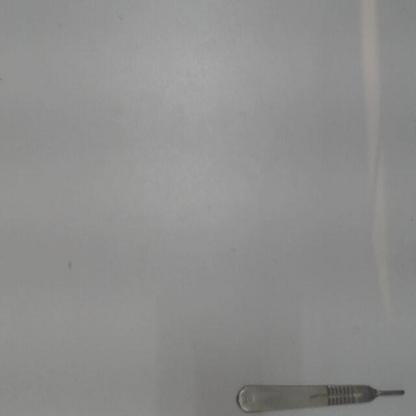No.3 BP Handle: (229, 377, 409, 413)
